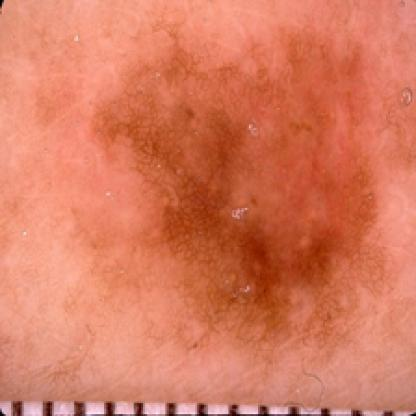malignant: (108, 45, 375, 295)
